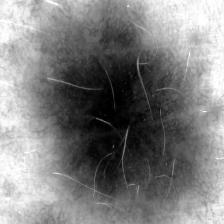Benign Marking or Mole: (34, 5, 207, 220)
